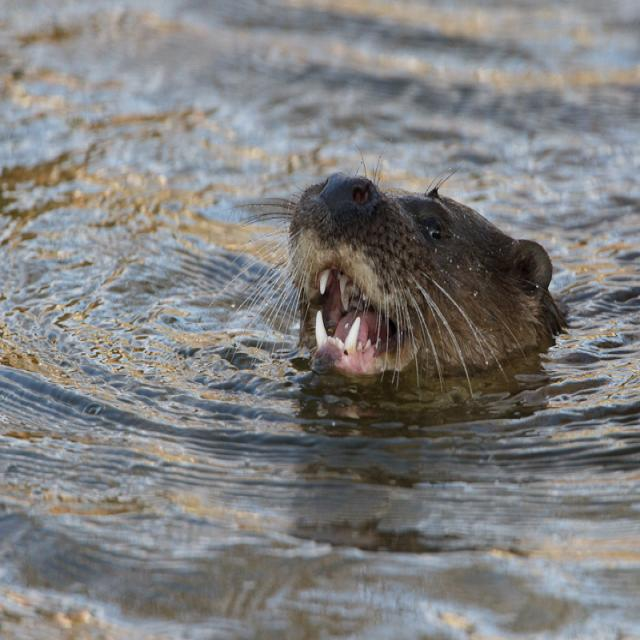otter: (291, 169, 557, 382)
